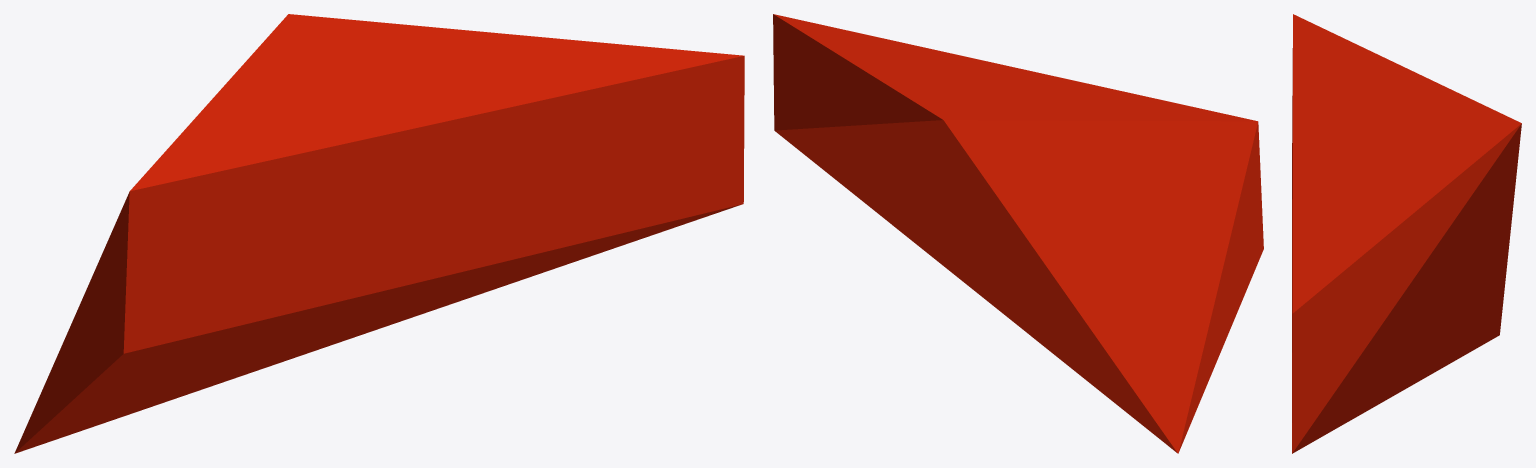
The model's file is garden_table_convex_piece_007.obj.
3 views of the same model, side by side, from view 1: azimuth 30°, elevation 25°; view 2: azimuth 150°, elevation 25°; view 3: azimuth 270°, elevation 25° (orthographic). The views are drawn at different scales.
Size of the model in its own units: 0.1111 by 0.0617 by 0.0373.
